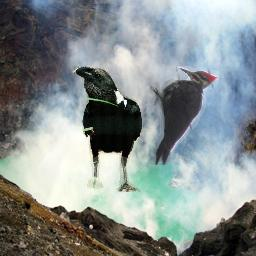Crow: (72, 66, 142, 192)
Woodpecker: (149, 66, 219, 165)
